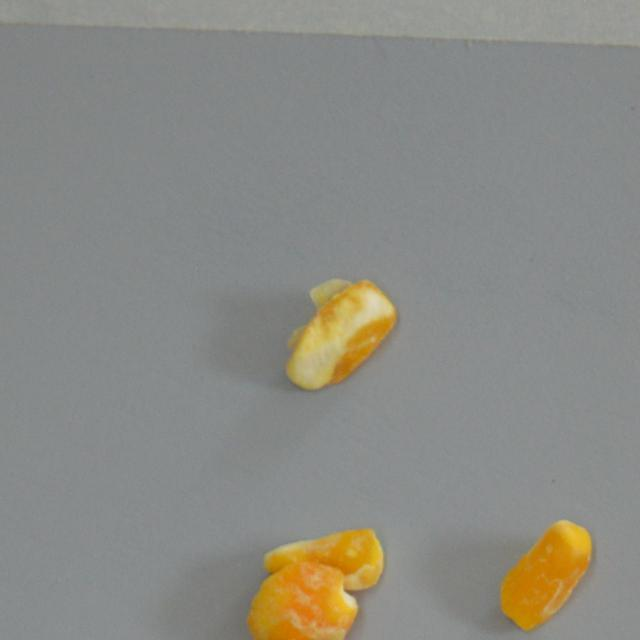pelicula: (284, 266, 399, 396), (493, 514, 599, 640), (244, 553, 358, 640), (262, 520, 383, 594)
